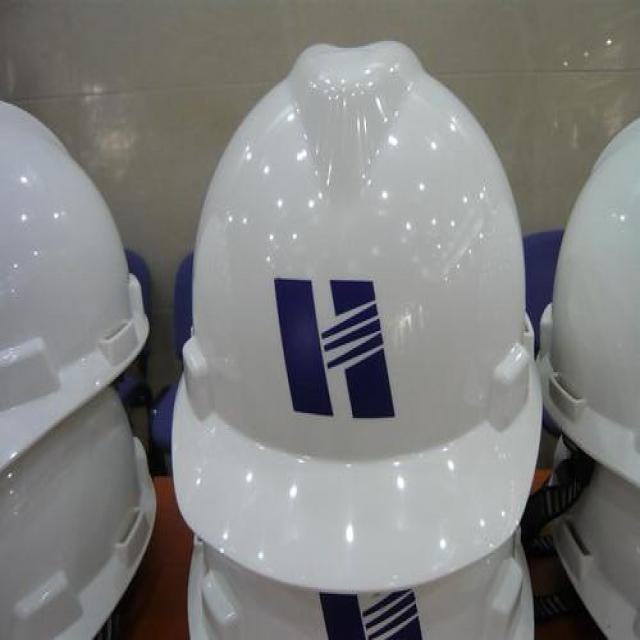helmet: (181, 41, 535, 564), (0, 95, 154, 480), (0, 372, 167, 640), (179, 527, 536, 640), (541, 106, 640, 481), (539, 407, 640, 640)
